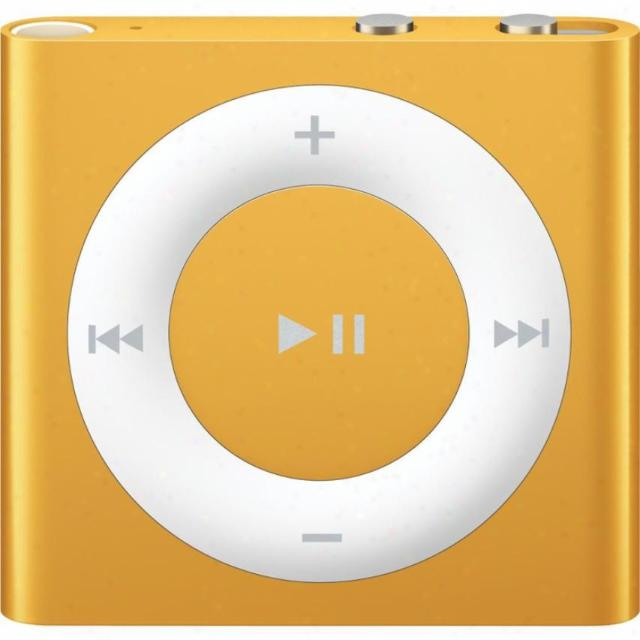Music-Player: (5, 17, 640, 633)
